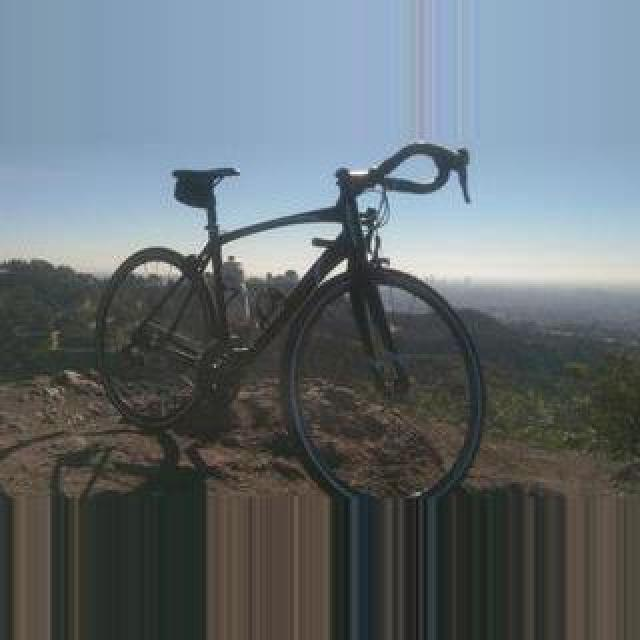Person: (94, 160, 474, 490)
